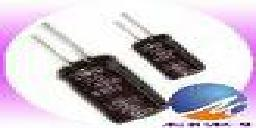Electrolytic Capacitor: (31, 16, 168, 128), (110, 7, 209, 84)
